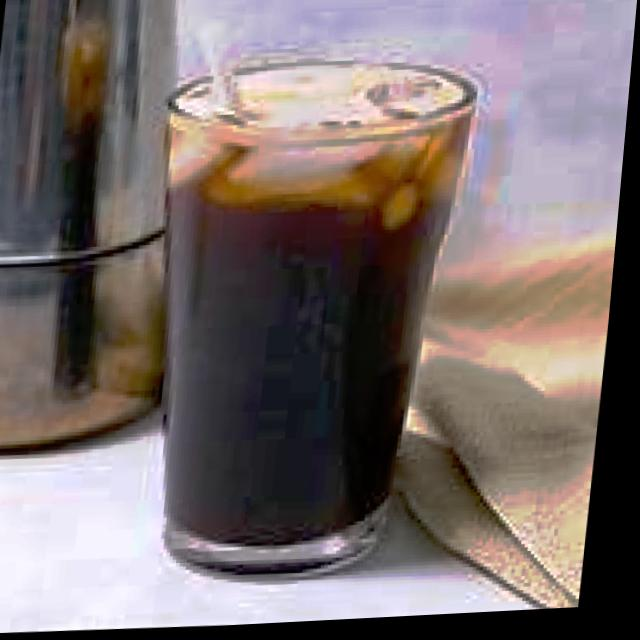drink: (159, 56, 473, 549)
